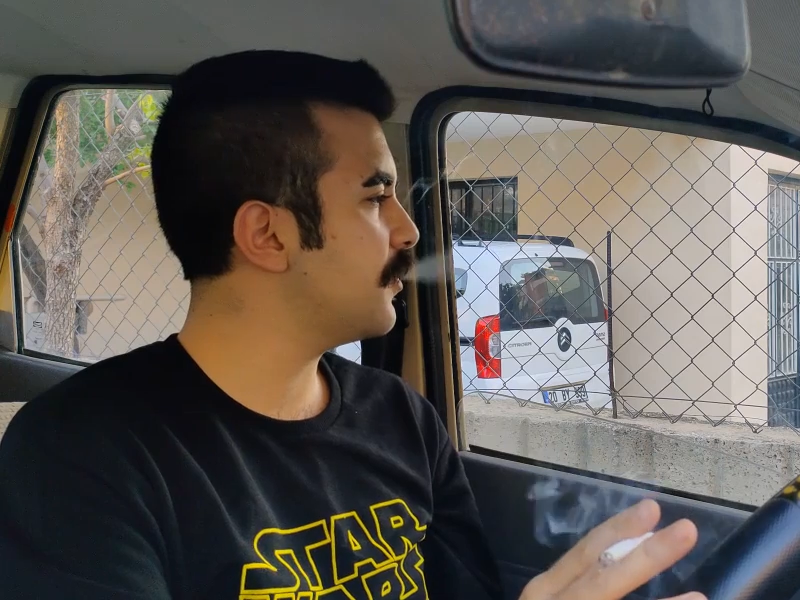sigara: (594, 527, 658, 567)
